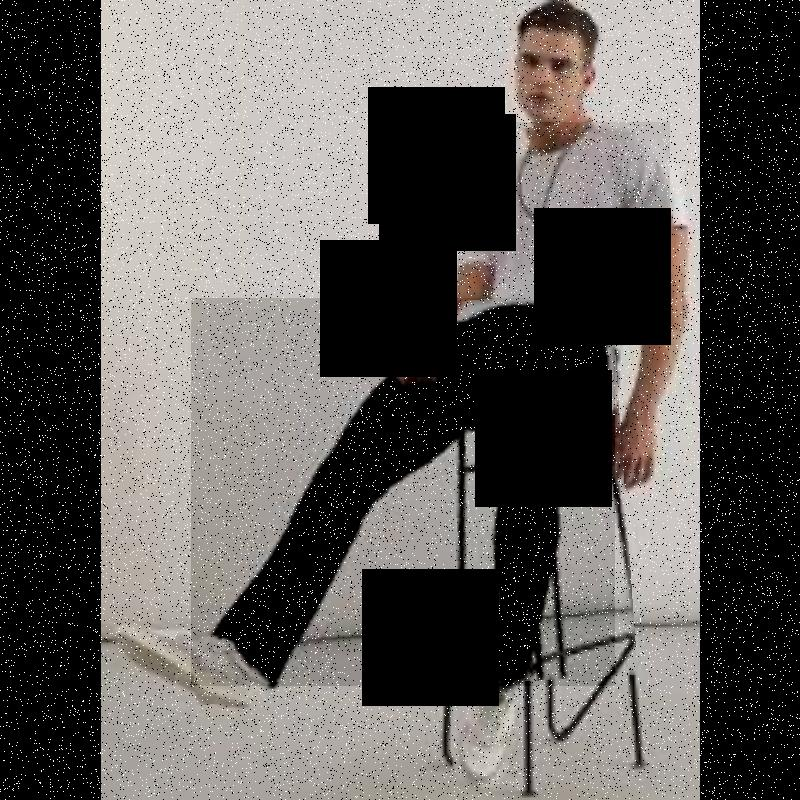Pant: (191, 298, 615, 686)
Tshirt: (459, 122, 670, 337)
